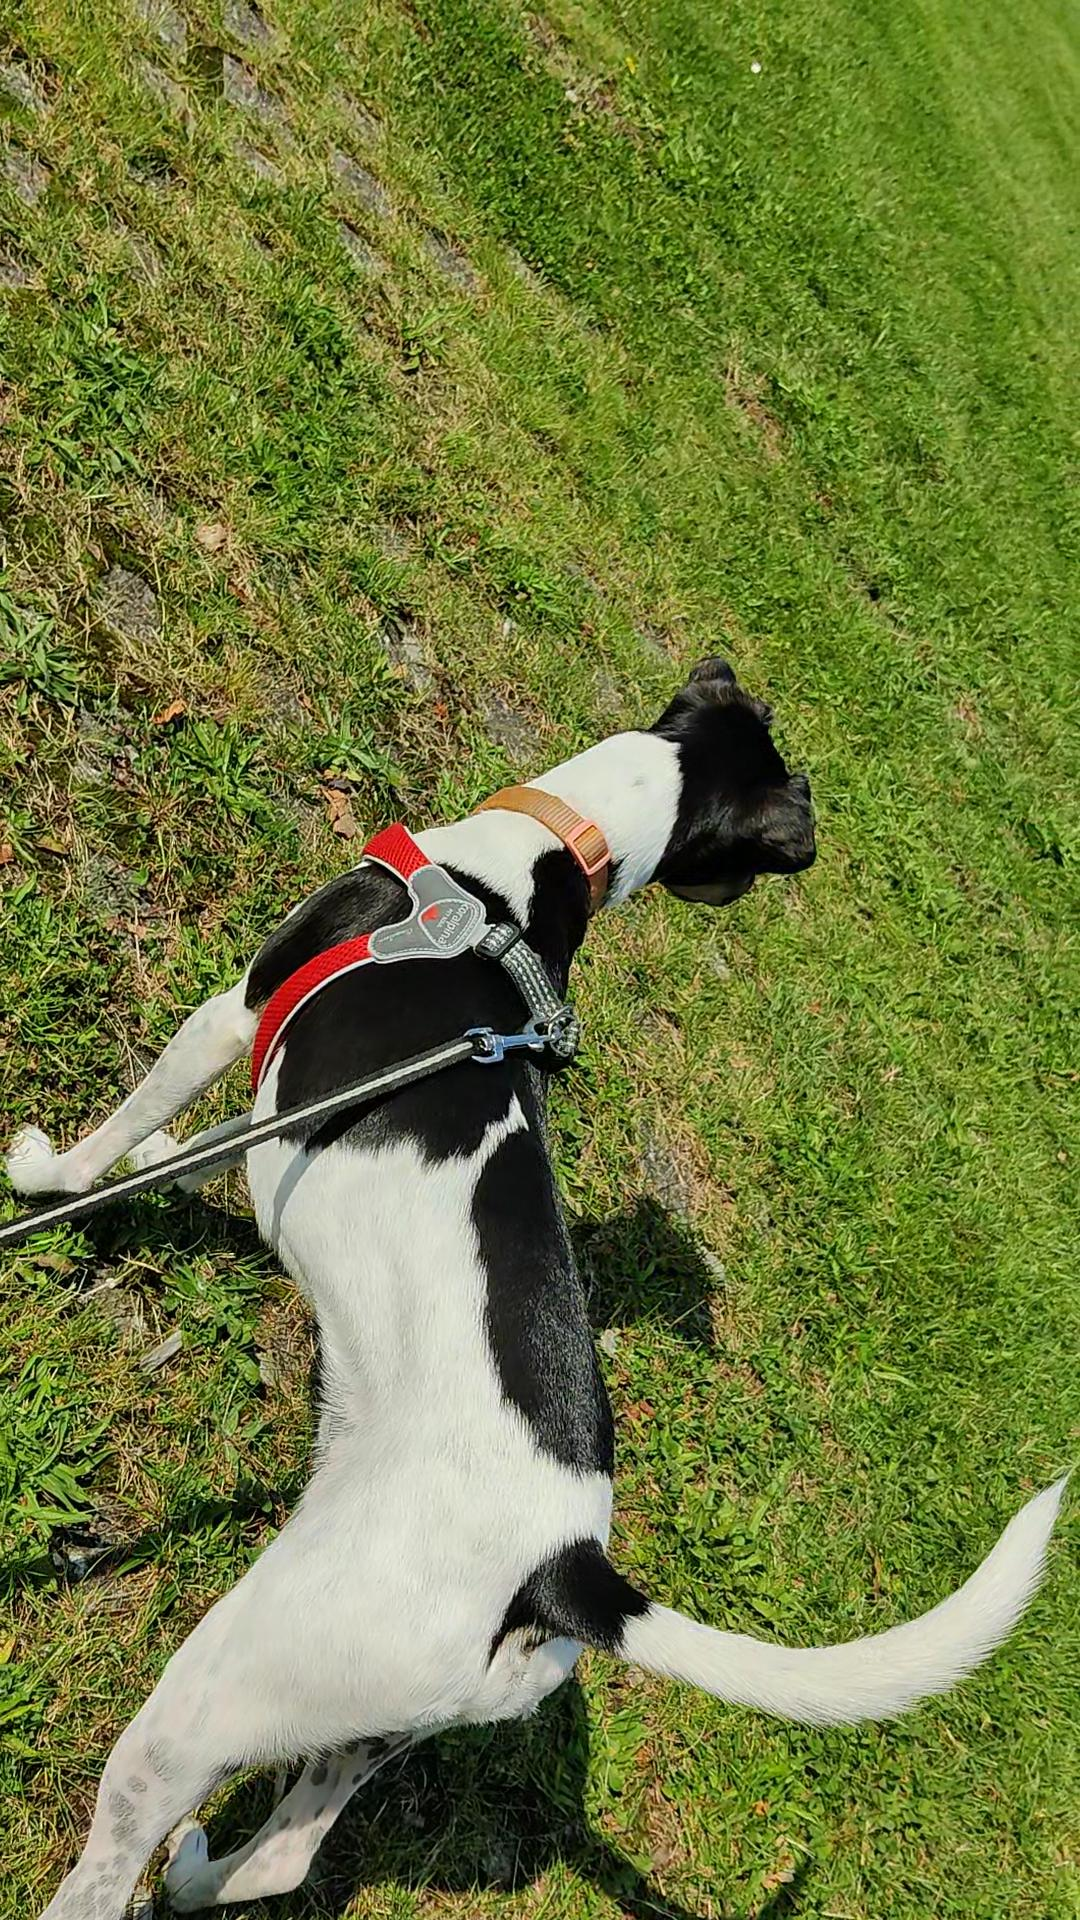Dog: (0, 641, 1064, 1919)
